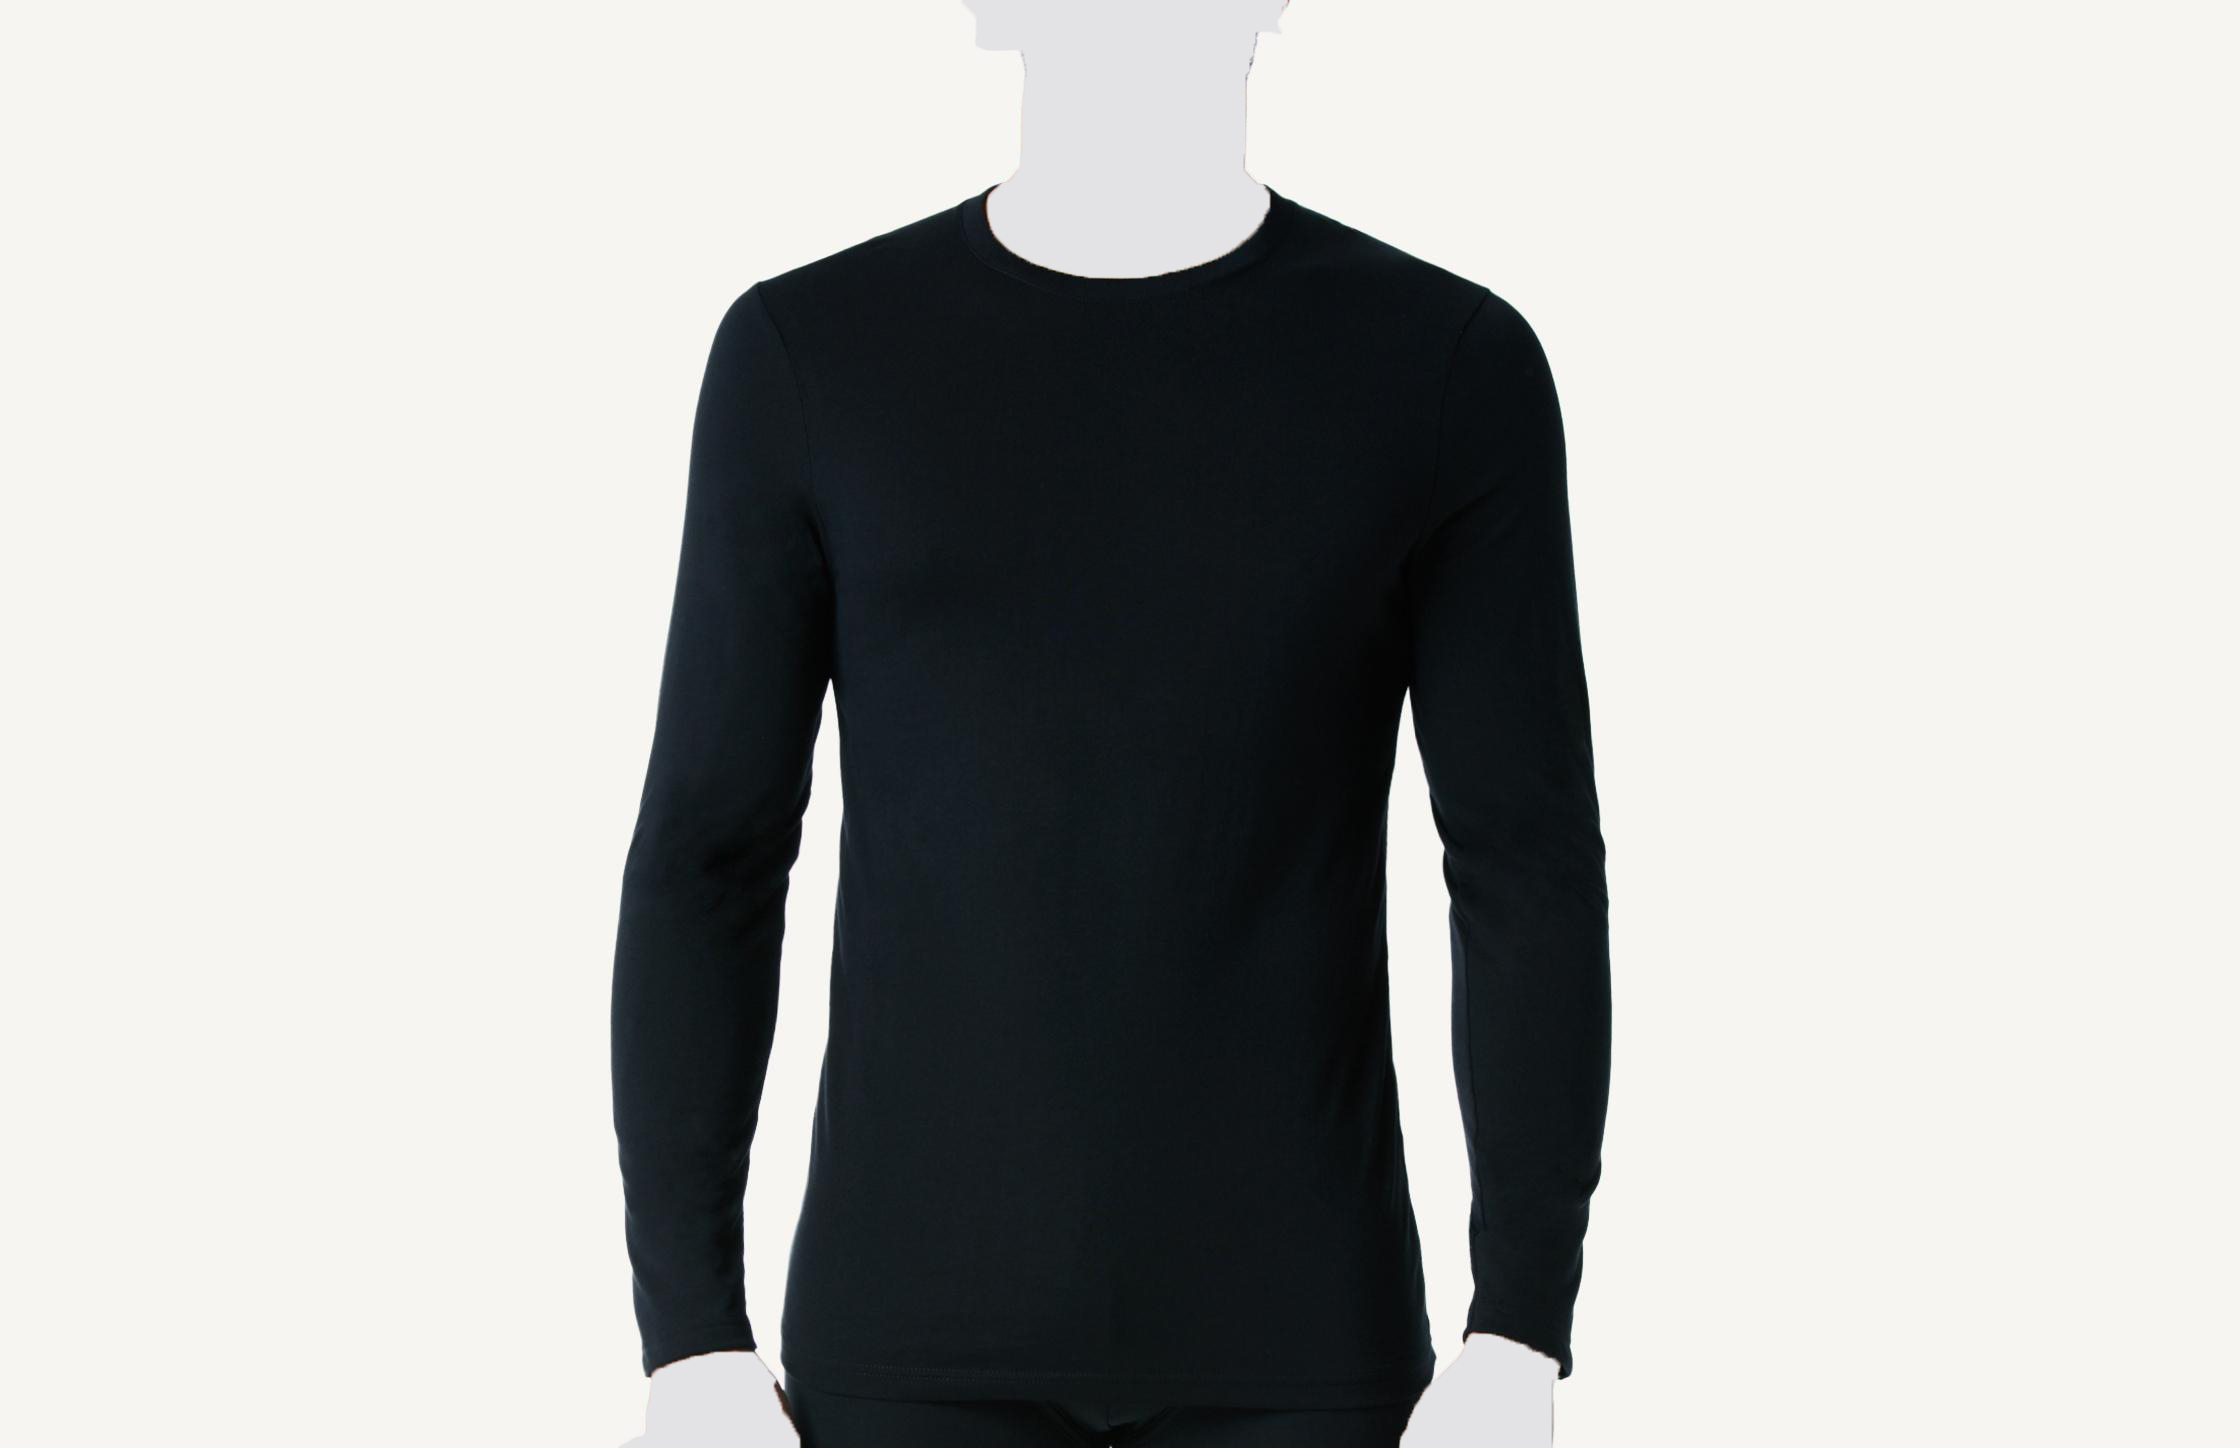teeshirt: (584, 180, 1624, 1407)
